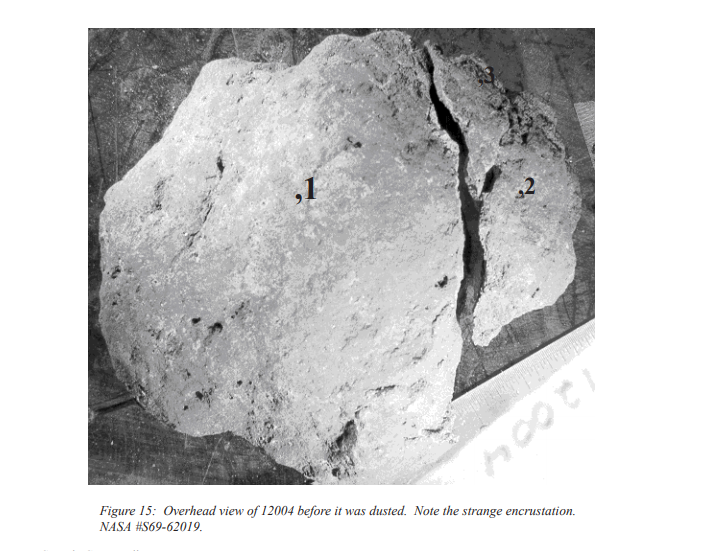Basalt: (88, 28, 591, 490)
